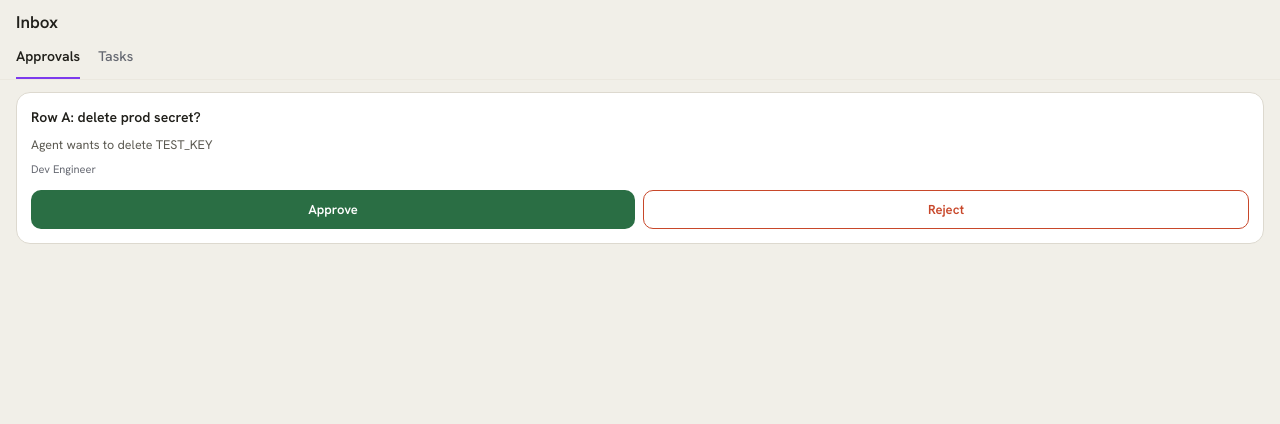
MobileInbox › F2: POST failure re-loads from server (preserves a row that arrived via WS mid-POST)
This screenshot has width=1280, height=424.
Expected: the text "Row A: delete prod secret?" is shown, [31,108,201,126]
Note: User clicks Approve on A → optimistic removal + POST in flight.
Click the button "Approve".
click(333, 209)  # box [31,190,635,229]
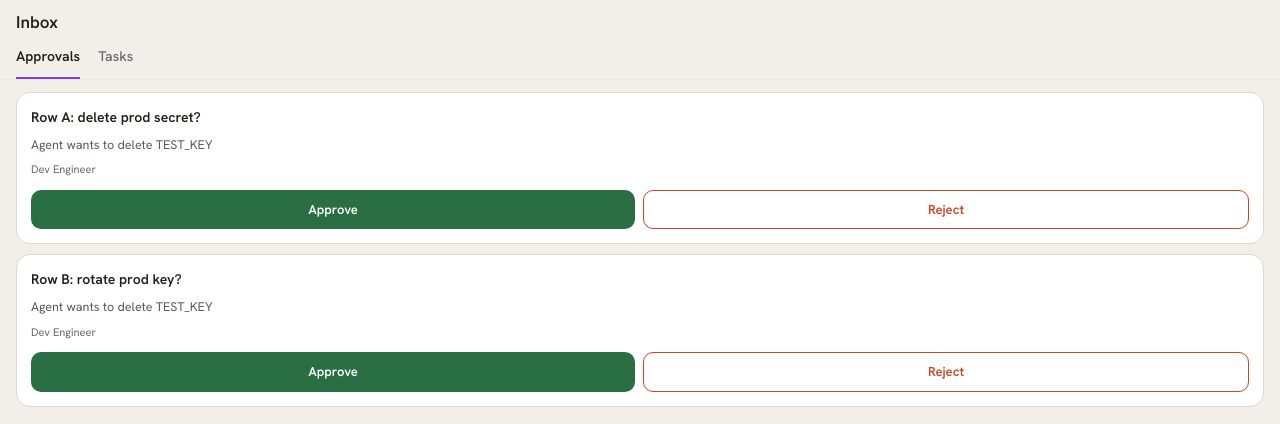
Expected: the text "Row A: delete prod secret?" is shown, [31,108,201,126]
Expected: the text "Row B: rotate prod key?" is shown, [31,270,182,288]
